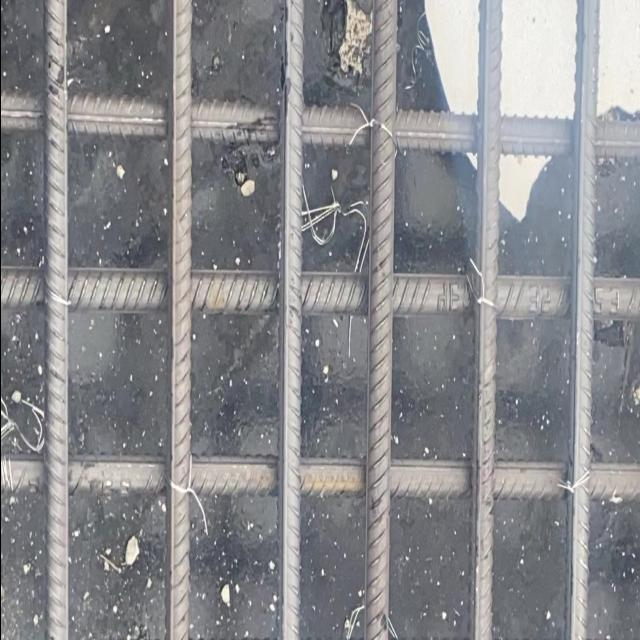ribbed bar: (1, 87, 640, 165), (1, 263, 640, 323), (1, 447, 640, 502), (561, 2, 601, 640), (467, 2, 503, 640), (362, 2, 398, 640), (162, 2, 192, 640), (39, 2, 69, 640), (276, 2, 304, 640)
